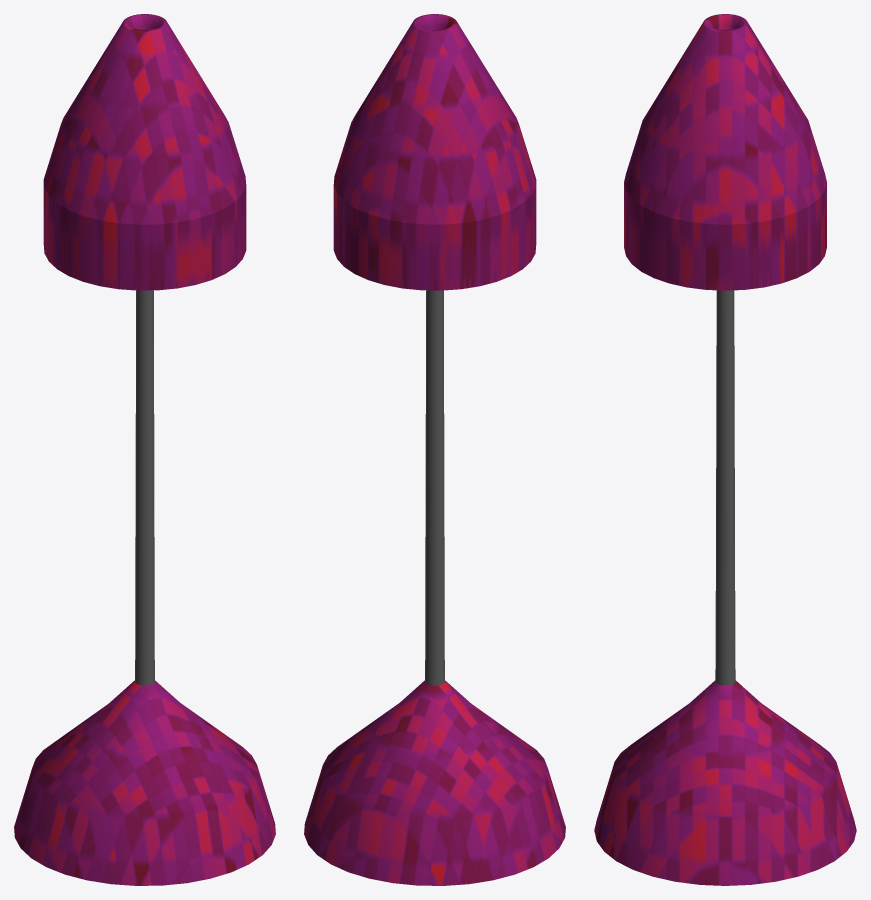
File: GameJamLamb.fbx
3 renders of one model, left to right at view 1: azimuth 30°, elevation 25°; view 2: azimuth 150°, elevation 25°; view 3: azimuth 270°, elevation 25°, orthographic.
Visible parts, largest first — view 1: Cylinder; view 2: Cylinder; view 3: Cylinder.
Boxes of the visible parts, x1,y1,x2,y2 form: Cylinder: (14, 14, 275, 885); Cylinder: (304, 14, 565, 885); Cylinder: (594, 14, 856, 885).
Size of the model in its own units: 247 by 839 by 247.
2 materials, 1 textured.
